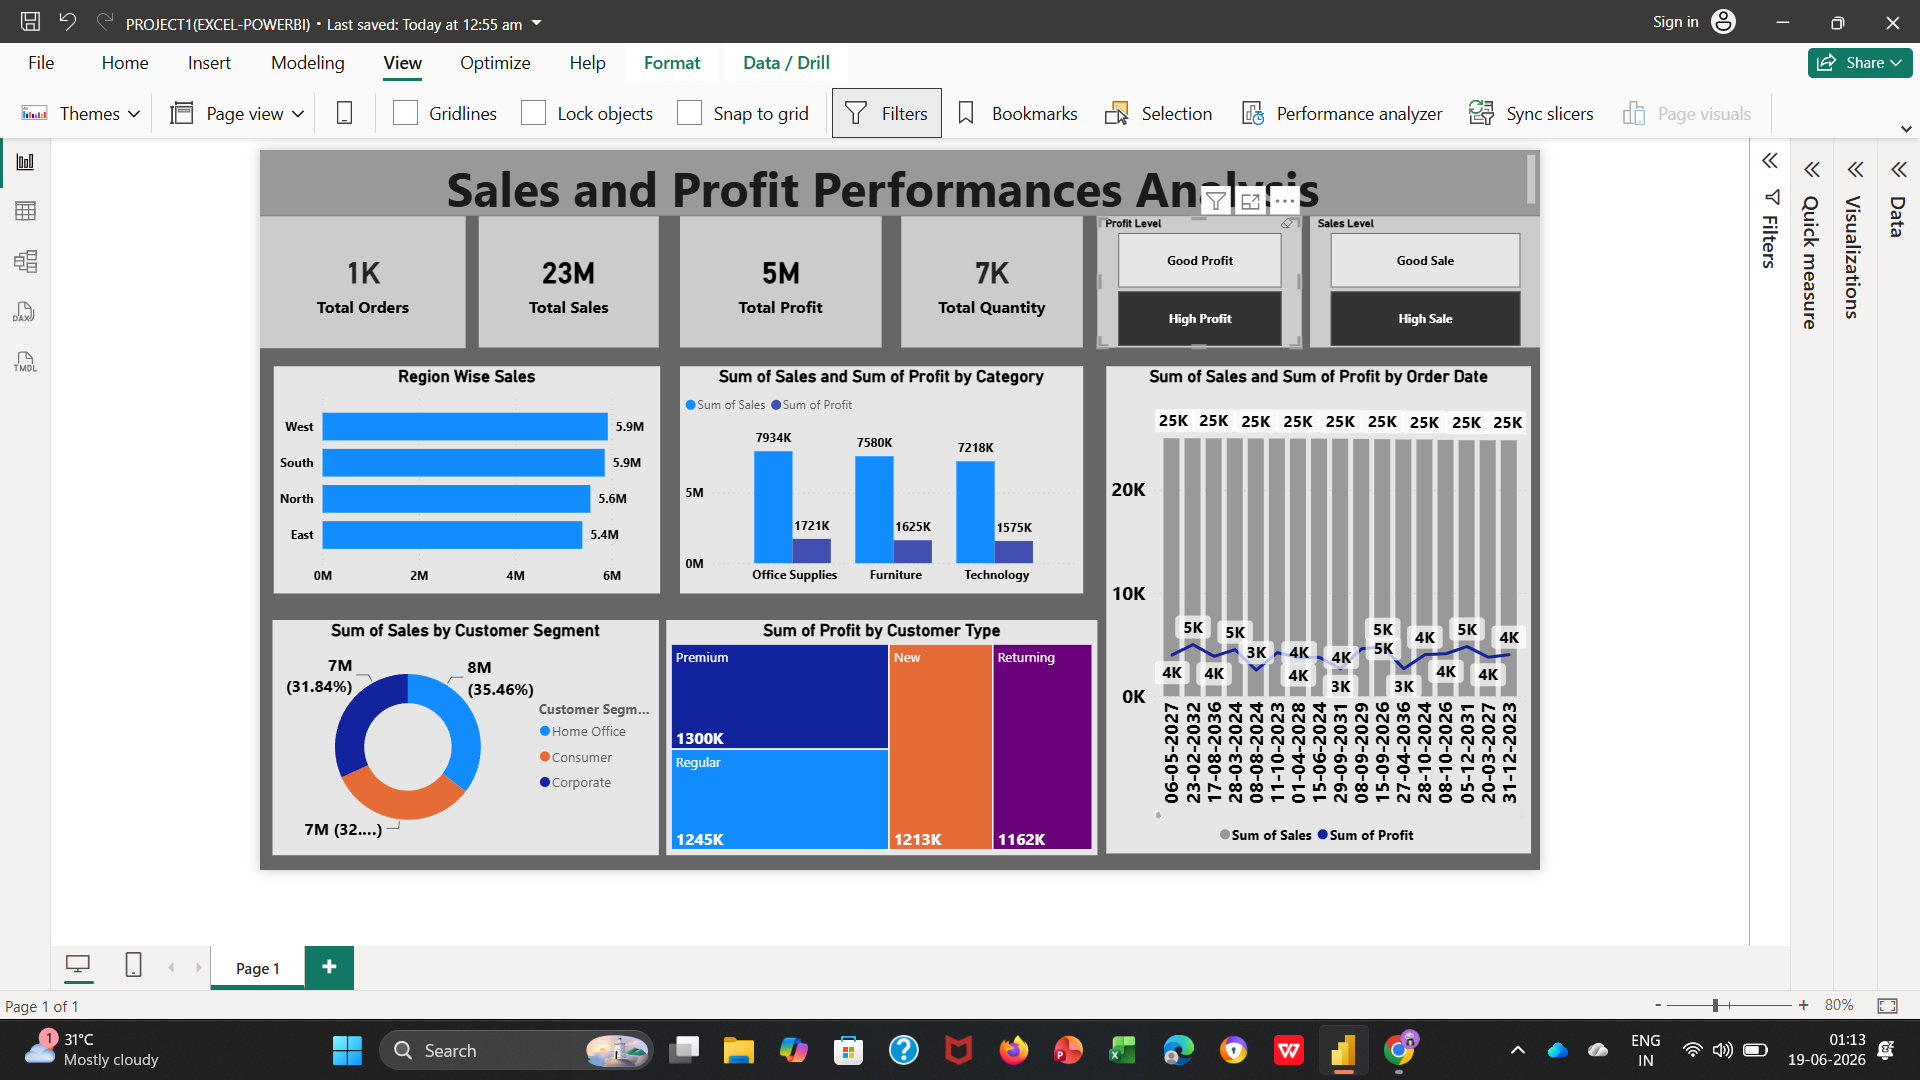

The dashboard page shown, as its layout file describes it:
{"tool":"powerbi","page":{"name":"Page 1","canvas":[1280,720],"ordinal":0},"visuals":[{"type":"textbox","box":[0,0,1280.3,65.9],"z":0},{"type":"card","fields":{"Values":["Superstore_Data_2_1.Total Orders"]},"box":[0,65.9,205.8,131.7],"z":1000},{"type":"card","fields":{"Values":["Superstore_Data_2_1.Total Profit"]},"box":[420,65.7,201.4,131.4],"z":2000},{"type":"card","fields":{"Values":["Superstore_Data_2_1.Total Quantity"]},"box":[641.4,65.7,181.4,131.4],"z":3000},{"type":"slicer","fields":{"Values":["Superstore_Data_2_1.Profit Level"]},"box":[837.1,65.7,204.3,131.4],"z":4000},{"type":"slicer","fields":{"Values":["Superstore_Data_2_1.Sales Level"]},"box":[1050,65.7,230,131.4],"z":5000},{"type":"clusteredBarChart","title":"Region Wise Sales","fields":{"Category":["Superstore_Data_2_1.Region"],"Y":["Sum(Superstore_Data_2_1.Sales)"]},"box":[0,215,386.2,227.5],"z":6000},{"type":"card","fields":{"Values":["Superstore_Data_2_1.Total Sales"]},"box":[218.6,65.7,180,131.4],"z":7000},{"type":"clusteredColumnChart","fields":{"Category":["Superstore_Data_2_1.Category"],"Y":["Sum(Superstore_Data_2_1.Sales)","Sum(Superstore_Data_2_1.Profit)"]},"box":[420,215.7,402.9,227.1],"z":8000},{"type":"donutChart","fields":{"Category":["Superstore_Data_2_1.Customer Segment"],"Y":["Sum(Superstore_Data_2_1.Sales)"]},"box":[0,468.6,385.7,235.7],"z":9000},{"type":"treemap","fields":{"Group":["Superstore_Data_2_1.Customer Type"],"Values":["Sum(Superstore_Data_2_1.Profit)"]},"box":[405.7,468.6,431.4,235.7],"z":10000},{"type":"lineClusteredColumnComboChart","fields":{"Category":["Superstore_Data_2_1.Order Date"],"Y2":["Sum(Superstore_Data_2_1.Profit)"],"Y":["Sum(Superstore_Data_2_1.Sales)"]},"box":[845.7,215.7,434.3,504.3],"z":11000}]}

Visuals, with their boxes on the page's 1280x720 design canvas (x1, y1, x2, y2). These are canvas units, not pixel positions in the 1920x1080 screenshot, which may show the page scaled, cropped or inside an application window:
textbox: crop(0, 0, 1280, 66)
card - Superstore_Data_2_1.Total Orders: crop(0, 66, 206, 198)
card - Superstore_Data_2_1.Total Profit: crop(420, 66, 621, 197)
card - Superstore_Data_2_1.Total Quantity: crop(641, 66, 823, 197)
slicer - Superstore_Data_2_1.Profit Level: crop(837, 66, 1041, 197)
slicer - Superstore_Data_2_1.Sales Level: crop(1050, 66, 1280, 197)
"Region Wise Sales" clusteredBarChart: crop(0, 215, 386, 442)
card - Superstore_Data_2_1.Total Sales: crop(219, 66, 399, 197)
clusteredColumnChart - Superstore_Data_2_1.Category x Sum(Superstore_Data_2_1.Sales): crop(420, 216, 823, 443)
donutChart - Superstore_Data_2_1.Customer Segment x Sum(Superstore_Data_2_1.Sales): crop(0, 469, 386, 704)
treemap - Superstore_Data_2_1.Customer Type x Sum(Superstore_Data_2_1.Profit): crop(406, 469, 837, 704)
lineClusteredColumnComboChart - Superstore_Data_2_1.Order Date x Sum(Superstore_Data_2_1.Profit): crop(846, 216, 1280, 720)
